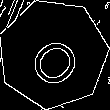O_NE: (20, 20, 87, 87)
